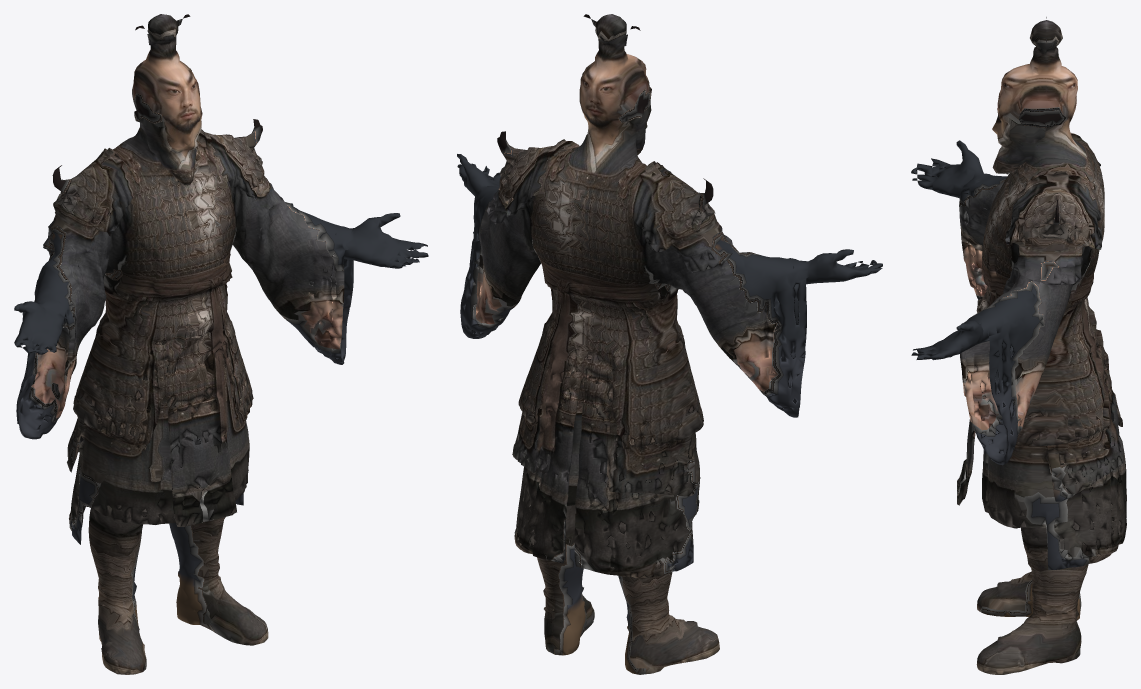
The model's file is general.glb.
The picture shows the model from 3 angles, left to right: view 1: azimuth 30°, elevation 25°; view 2: azimuth 150°, elevation 25°; view 3: azimuth 270°, elevation 25°; orthographic projection. The views are drawn at different scales.
Bounding box in the file's own units: 1.32 × 1.9 × 0.6017.
Materials: 1 (1 with a texture image).
